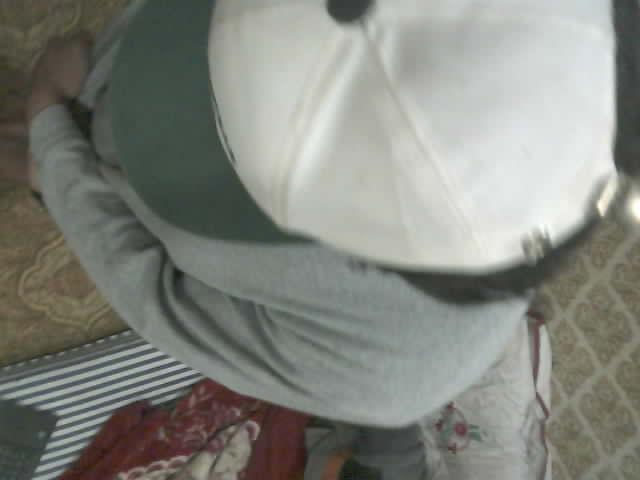cap: (94, 0, 620, 278)
